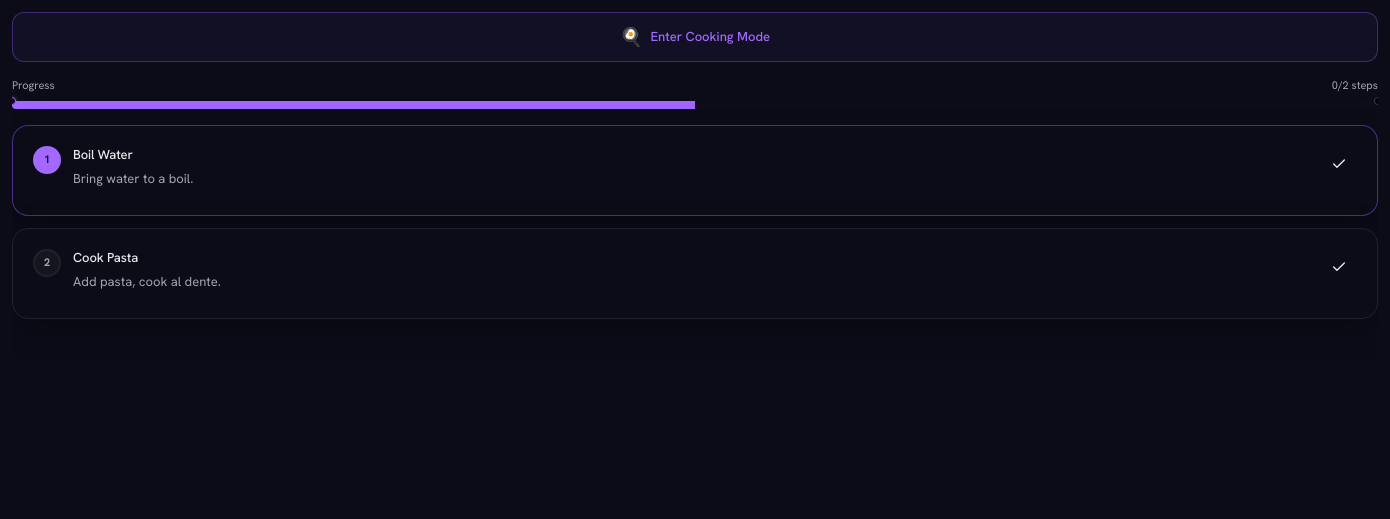
it: ComposableOutput › enter mode / FlowPlayer (interactive-overhaul-v2 P4) › launches the cooking flow with ingredients context + steps sequence
The image size is (1390, 519).
Click the button "🍳 Enter Cooking Mode". click: (695, 37)
box: top-left (12, 12), bottom-right (1378, 62)
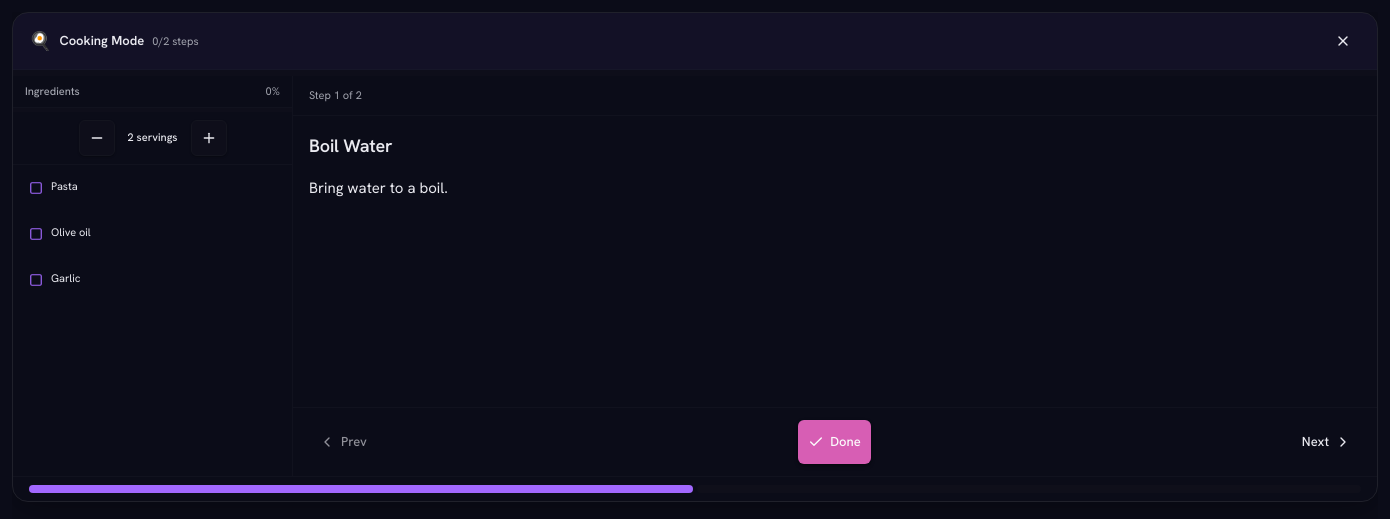
Expected: the text "Cooking Mode" is shown, top-left (60, 32), bottom-right (144, 50)
Expected: the button named "exit cooking mode" is shown, top-left (1325, 23), bottom-right (1361, 59)
